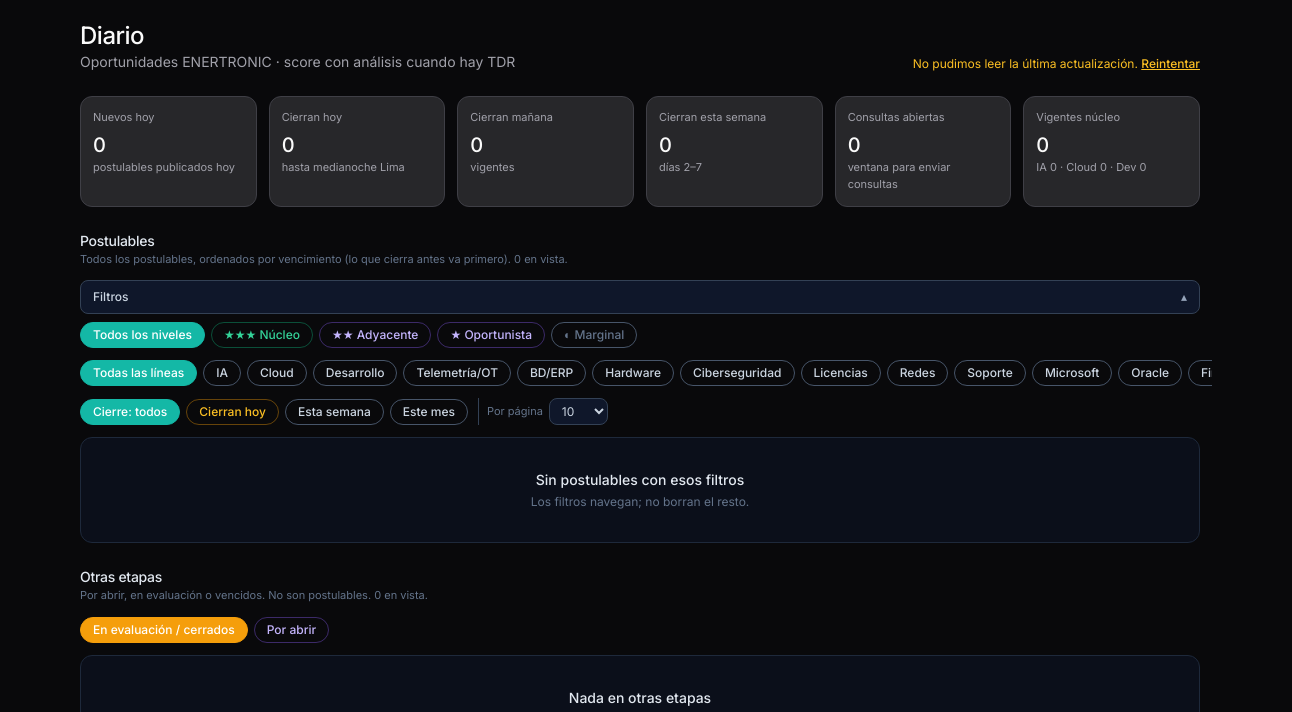
it: Diario: errores de carga recuperables › fallo del pipeline: no se presenta como "sin dato" ni oculta la lista
The width and height of the screenshot is (1292, 712).
Expected: the text "No pudimos leer la última actualización. Reintentar" is shown, top-left (913, 56), bottom-right (1200, 72)
Expected: the text "sin dato" is not shown
Click the button "Reintentar" at point(1171, 64), box top-left (1141, 56), bottom-right (1200, 72)
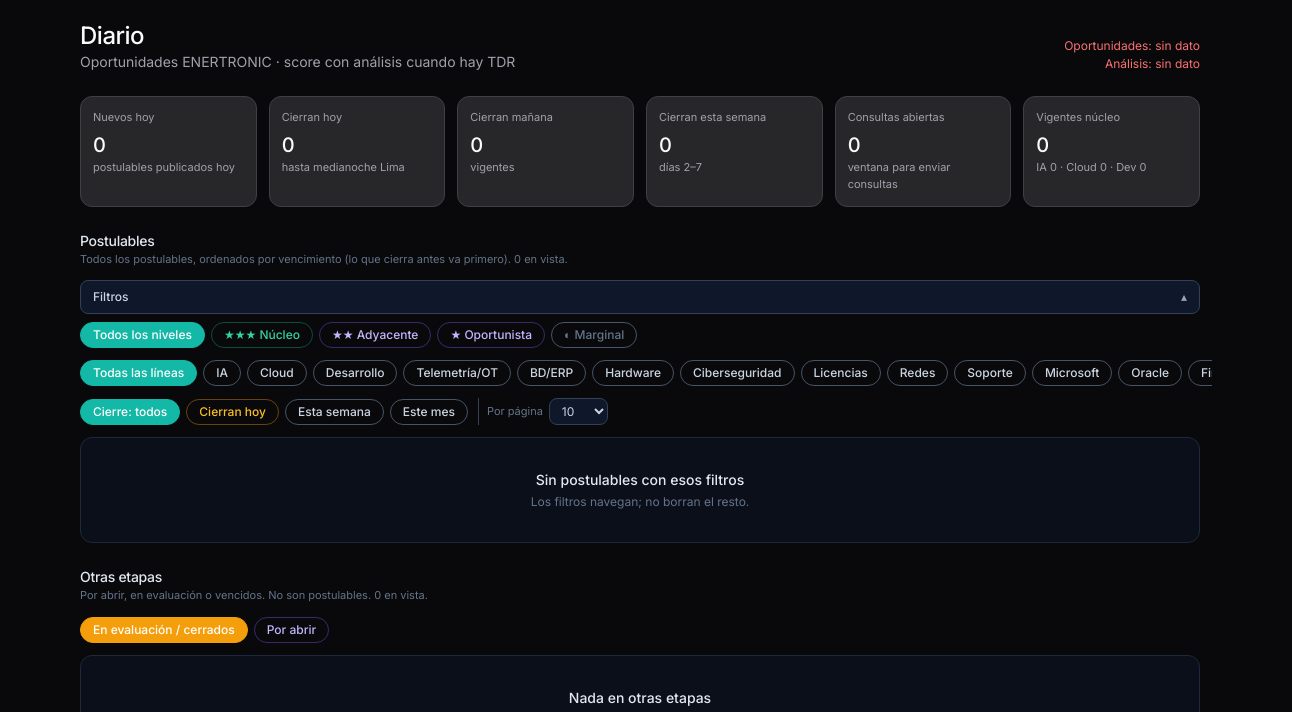
Expected: the text "Análisis: sin dato" is shown, top-left (1105, 56), bottom-right (1200, 71)
